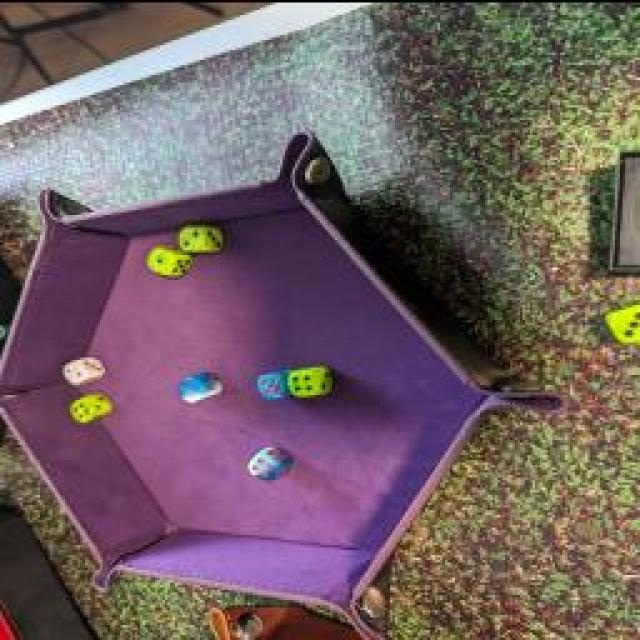dice_1: (143, 244, 195, 278), (176, 368, 224, 402)
dice_2: (174, 221, 224, 254), (60, 353, 105, 385)
dice_3: (600, 300, 640, 345)
dice_4: (246, 441, 296, 481), (288, 358, 338, 394), (66, 388, 112, 424), (259, 365, 289, 397)
